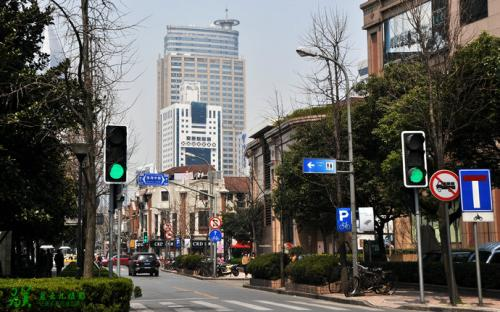green: (400, 129, 430, 190), (104, 124, 129, 184)
